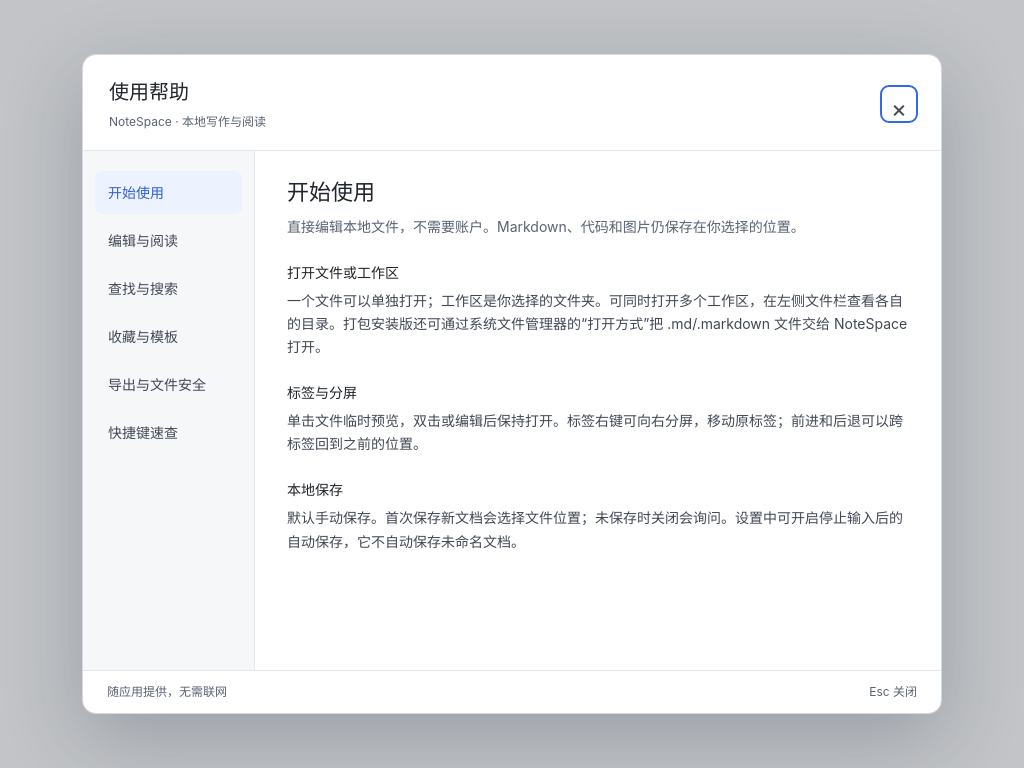
Test: HelpDialog › shows actual customized, cleared and default shortcuts on MacIntel
The width and height of the screenshot is (1024, 768).
Click the button "快捷键速查" at (168, 433), box [95,411,242,454]
(page scrolled)
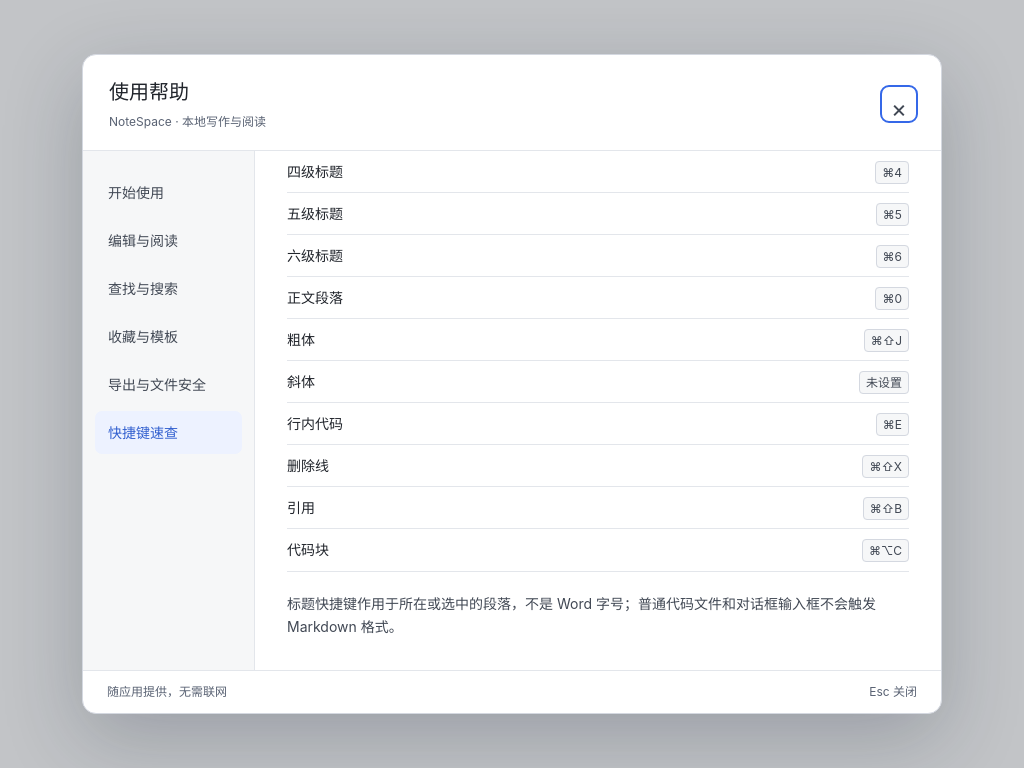
Result: the element showing "⌘⇧J" is shown at [864,328,909,351]
Result: the element showing "未设置" is shown at [859,370,909,393]
Result: the text "标题快捷键作用于所在或选中的段落，不是 Word 字号；普通代码文件和对话框输入框不会触发 Markdown 格式。" is shown at [287,592,909,638]
